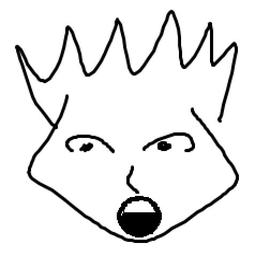eye: (139, 130, 200, 155), (63, 132, 119, 155)
open_mouth: (112, 194, 167, 240)
pointy_nose: (120, 162, 144, 194)
